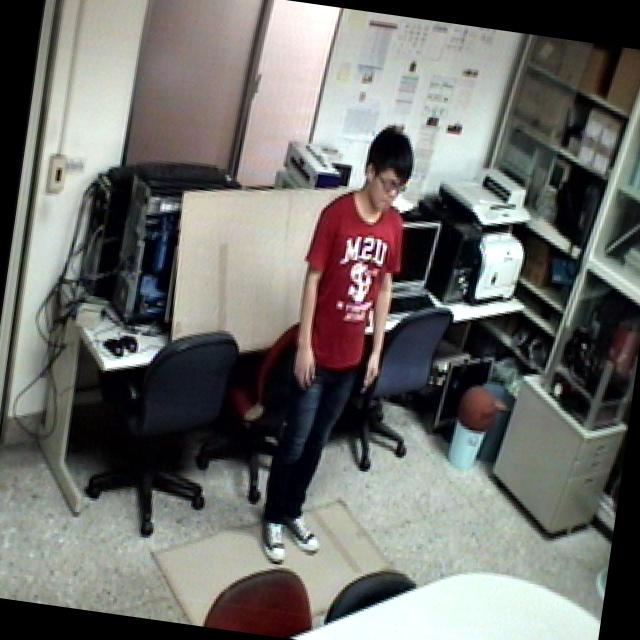stand: (238, 102, 428, 580)
